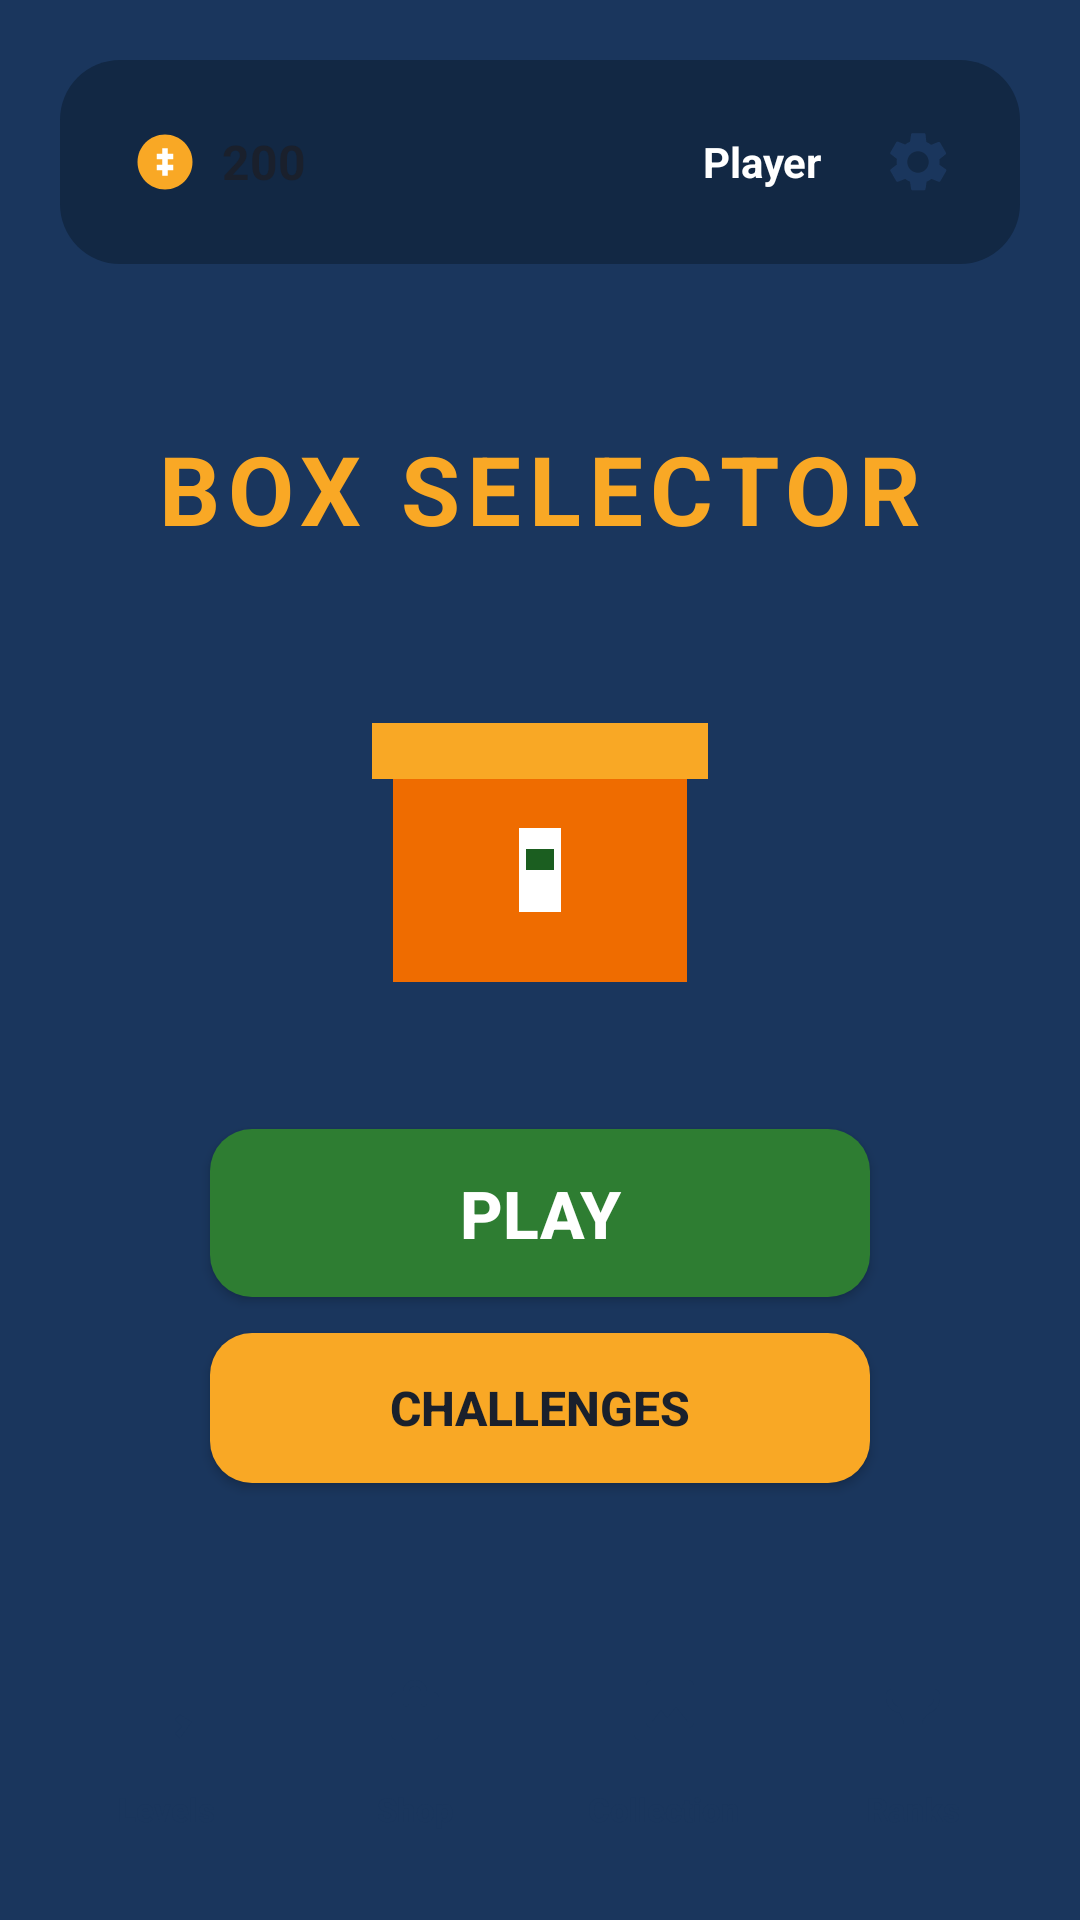

Locate icon controls on the screen. Image size 1080w x 1920h, boxes as (x1, y1, x2, y2).
Coins: (137, 134, 193, 190)
Settings: (891, 134, 946, 190)
